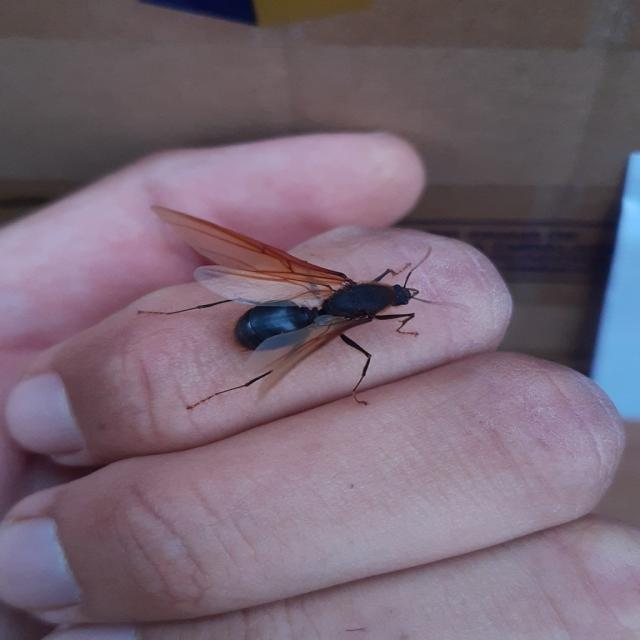Alive-Male-Alate: (135, 205, 469, 410)
